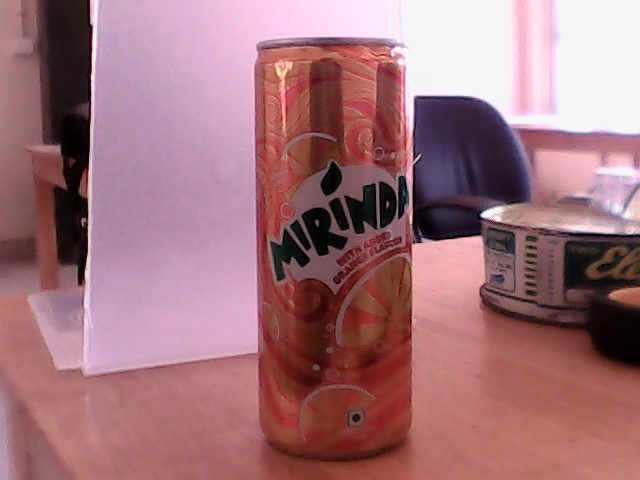Metal: (232, 38, 460, 480)
